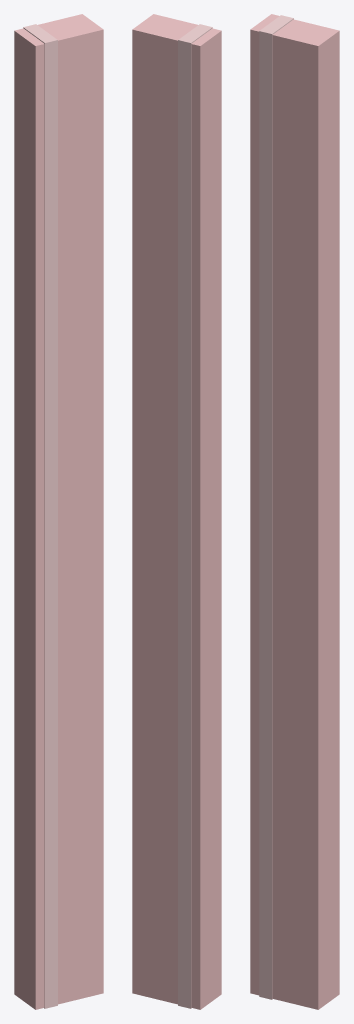
The model's file is ham.glb.
3 renders of one model, left to right at view 1: azimuth 30°, elevation 25°; view 2: azimuth 150°, elevation 25°; view 3: azimuth 330°, elevation 25°, orthographic.
Parts seen in each view (by area): view 1: ham, ham_mark; view 2: ham, ham_mark; view 3: ham, ham_mark.
Boxes of the visible parts, bbox=[...] form: ham: bbox=[14, 14, 103, 1009]; ham_mark: bbox=[23, 24, 57, 1008]; ham: bbox=[132, 14, 221, 1009]; ham_mark: bbox=[178, 24, 212, 1008]; ham: bbox=[250, 14, 339, 1009]; ham_mark: bbox=[259, 15, 293, 999].
Size of the model in its own units: 0.074 by 1 by 0.041.
